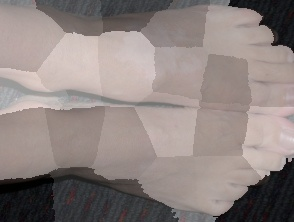vitiligo: (0, 89, 294, 222), (0, 0, 294, 120)
